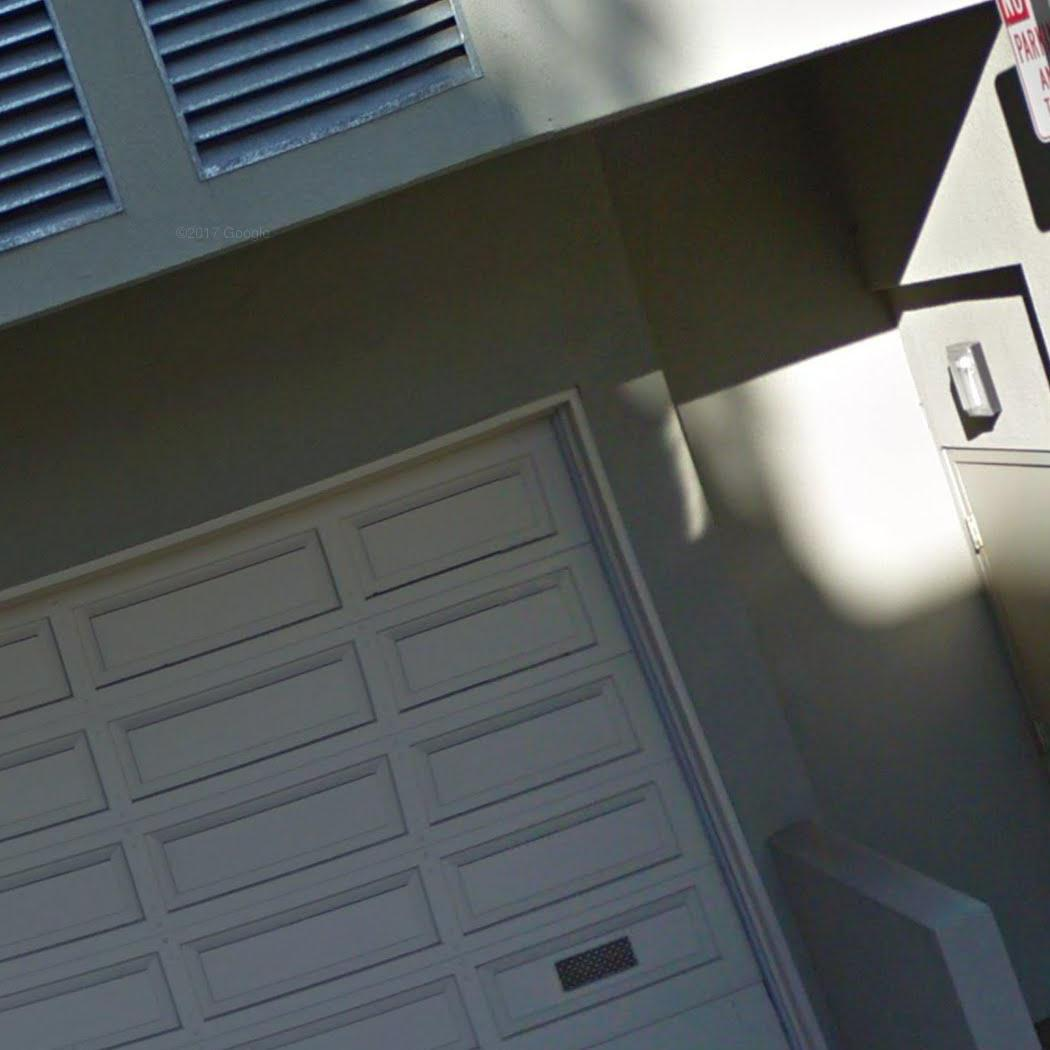No Parking: (993, 0, 1050, 148)
